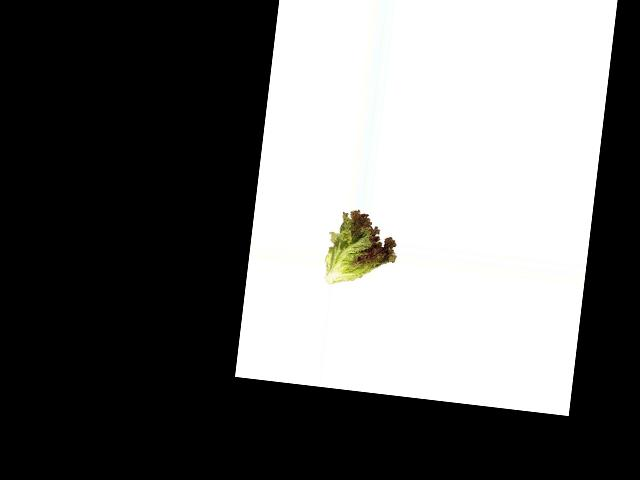lettuce: (323, 206, 400, 290)
